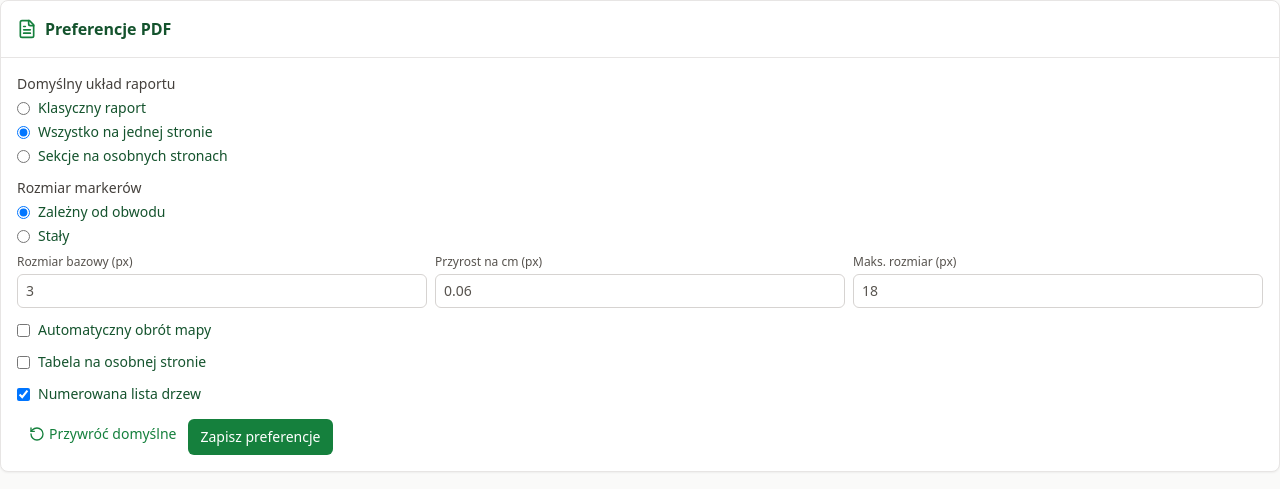
Test: PdfPrefsEditor › should restore default prefs on reset
Click the button with test id "pdf-prefs-reset": (103, 434) [17,416,188,452]
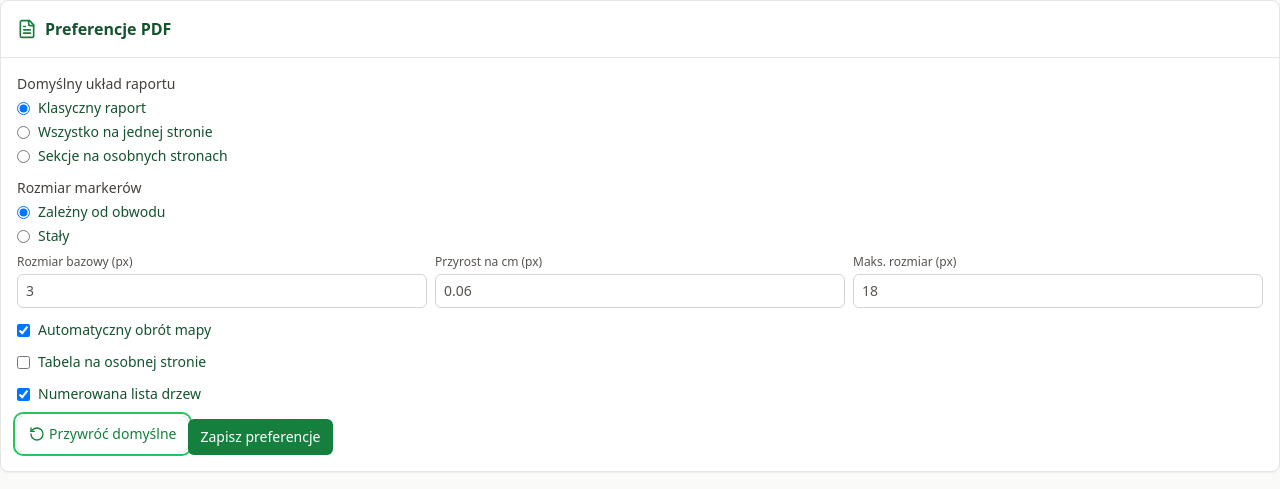
expect the radio button with test id "config-layout-single" is checked: met, box [17,102,30,114]
expect the checkbox with test id "config-pref-rotate" is checked: met, box [17,324,30,336]
